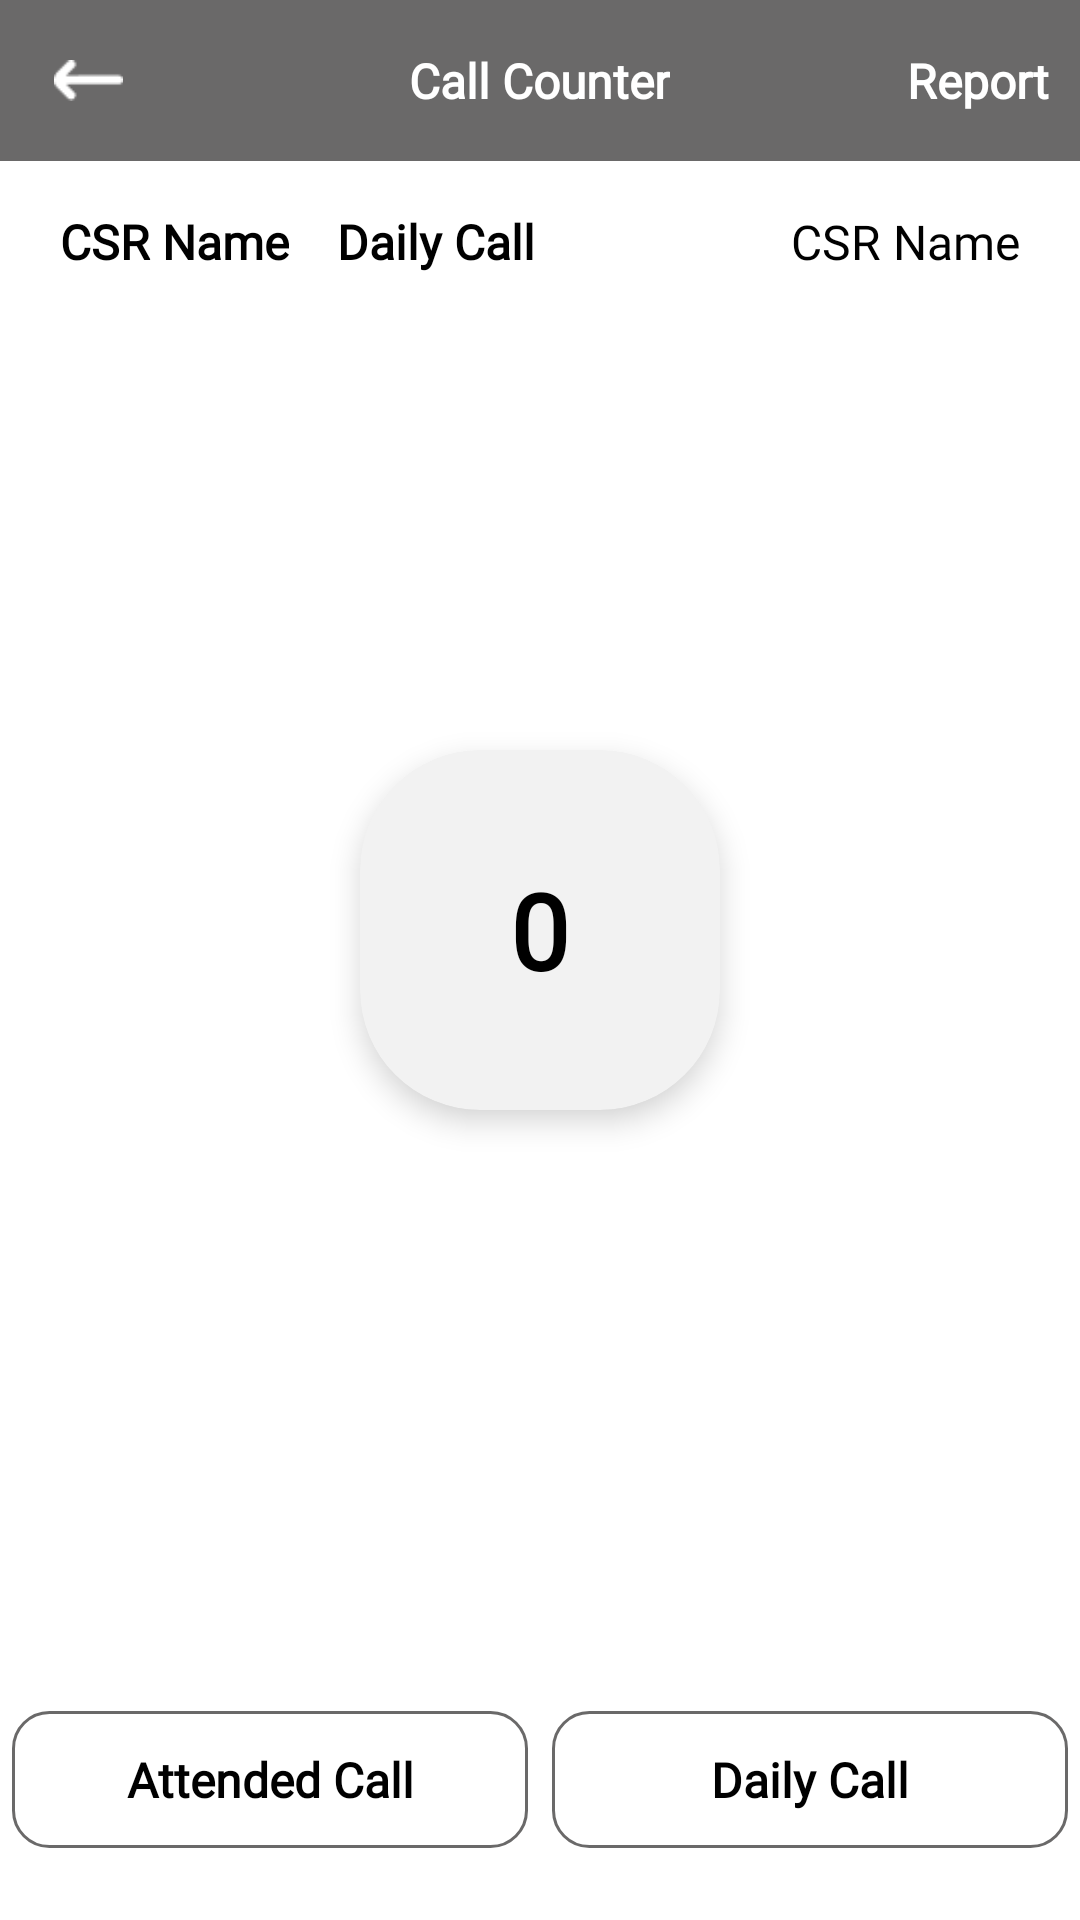

Where icons sit on this 1080px x 1920px app screen, as (x1, y1, x2, y2):
arrow left: (54, 60, 123, 101)
